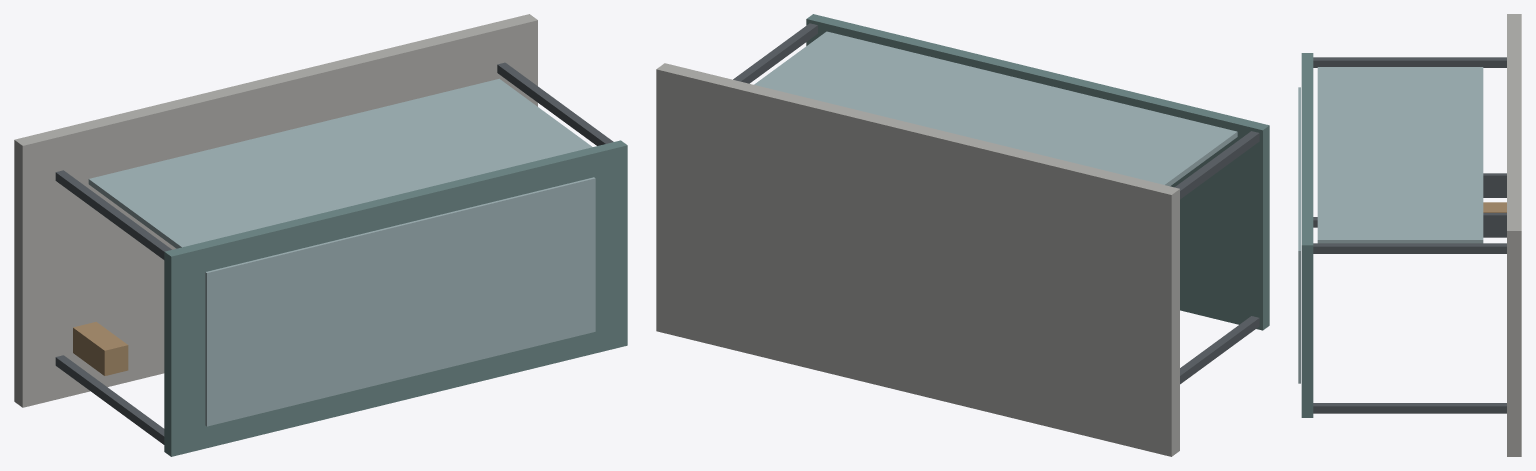
The model's file is premium_glass_shelter.glb.
The picture shows the model from 3 angles, left to right: view 1: azimuth 30°, elevation 25°; view 2: azimuth 150°, elevation 25°; view 3: azimuth 270°, elevation 25°; orthographic projection. The views are drawn at different scales.
Visible parts, largest first — view 1: 0006_Roof_glazing, 0000_Paving_slab, 0007_Back_glass, 0005_Shelter_roof, 0014_Waste_bin, 0002_Shelter_post, 0001_Shelter_post, 0004_Shelter_post; view 2: 0000_Paving_slab, 0007_Back_glass, 0005_Shelter_roof, 0002_Shelter_post, 0001_Shelter_post, 0004_Shelter_post; view 3: 0007_Back_glass, 0000_Paving_slab, 0005_Shelter_roof, 0003_Shelter_post, 0004_Shelter_post, 0002_Shelter_post, 0006_Roof_glazing, 0010_Bench_leg, 0011_Bench_leg, 0014_Waste_bin.
Boxes of the visible parts, x1,y1,x2,y2 form: 0006_Roof_glazing: (205,177,595,426); 0000_Paving_slab: (14,14,537,407); 0007_Back_glass: (88,78,592,248); 0005_Shelter_roof: (164,140,627,456); 0014_Waste_bin: (73,321,128,375); 0002_Shelter_post: (55,170,171,259); 0001_Shelter_post: (55,355,164,444); 0004_Shelter_post: (497,62,613,145); 0000_Paving_slab: (656,63,1179,456); 0007_Back_glass: (754,31,1237,186); 0005_Shelter_roof: (806,14,1269,330); 0002_Shelter_post: (1174,131,1259,199); 0001_Shelter_post: (1180,316,1259,384); 0004_Shelter_post: (733,23,817,83); 0007_Back_glass: (1317,67,1483,243); 0000_Paving_slab: (1507,14,1521,456); 0005_Shelter_roof: (1301,53,1313,417); 0003_Shelter_post: (1313,403,1506,413); 0004_Shelter_post: (1313,243,1506,253); 0002_Shelter_post: (1313,57,1506,67); 0006_Roof_glazing: (1298,87,1300,383); 0010_Bench_leg: (1483,173,1506,197); 0011_Bench_leg: (1483,213,1506,237); 0014_Waste_bin: (1483,202,1506,212).
Bounding box in the file's own units: 7 × 3.4 × 3.04.
